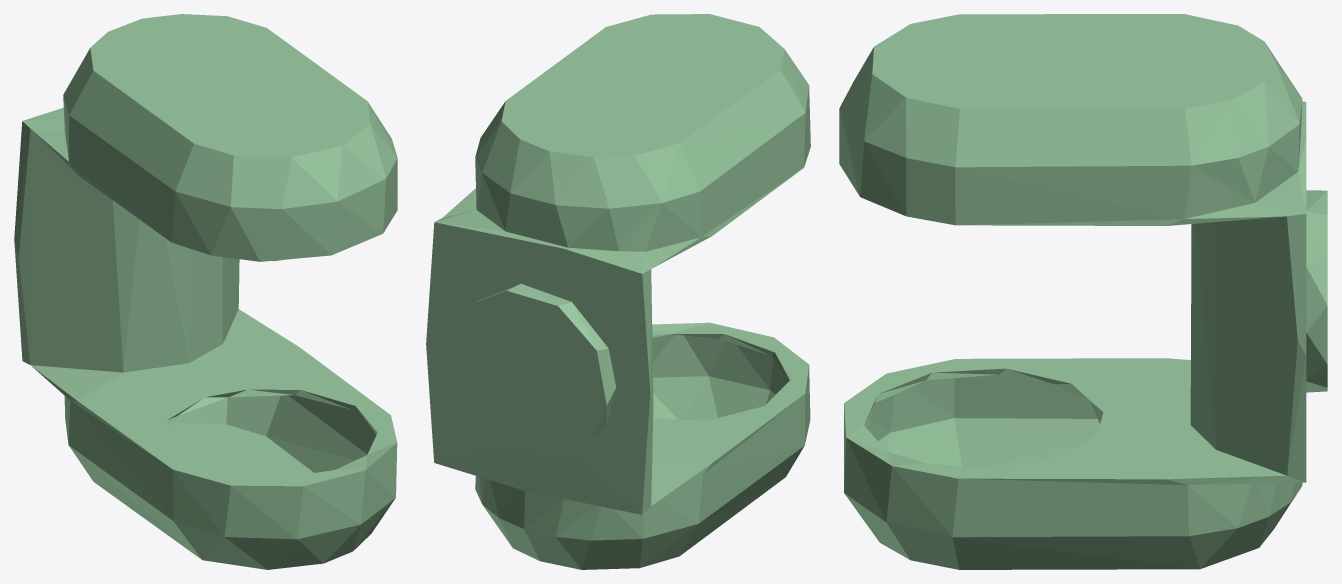
3 renders of one model, left to right at view 1: azimuth 30°, elevation 25°; view 2: azimuth 150°, elevation 25°; view 3: azimuth 270°, elevation 25°, orthographic. The views are drawn at different scales.
Visible parts, largest first — view 1: link3; view 2: link3; view 3: link3.
Boxes of the visible parts, x1=… form: link3: x1=14, y1=14, x2=397, y2=569; link3: x1=426, y1=14, x2=810, y2=569; link3: x1=839, y1=14, x2=1327, y2=569.
Size of the model in its own units: 0.121 by 0.213 by 0.2045.
